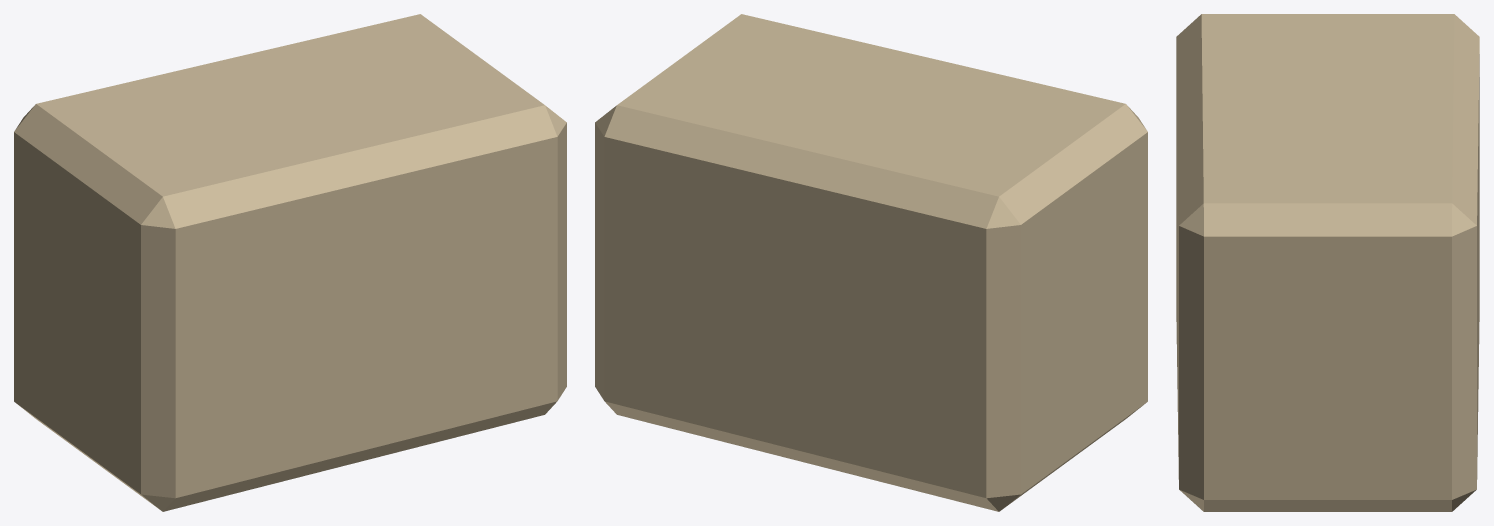
File: brace.glb
3 renders of one model, left to right at view 1: azimuth 30°, elevation 25°; view 2: azimuth 150°, elevation 25°; view 3: azimuth 270°, elevation 25°, orthographic.
Visible parts, largest first — view 1: WB002V2_ConcreteQuoin.004; view 2: WB002V2_ConcreteQuoin.004; view 3: WB002V2_ConcreteQuoin.004.
Part boxes in pixels (bbox=[...]): WB002V2_ConcreteQuoin.004: bbox=[14, 14, 566, 511]; WB002V2_ConcreteQuoin.004: bbox=[595, 14, 1147, 511]; WB002V2_ConcreteQuoin.004: bbox=[1176, 14, 1479, 511].
Size of the model in its own units: 0.68 by 0.4795 by 0.4196.
